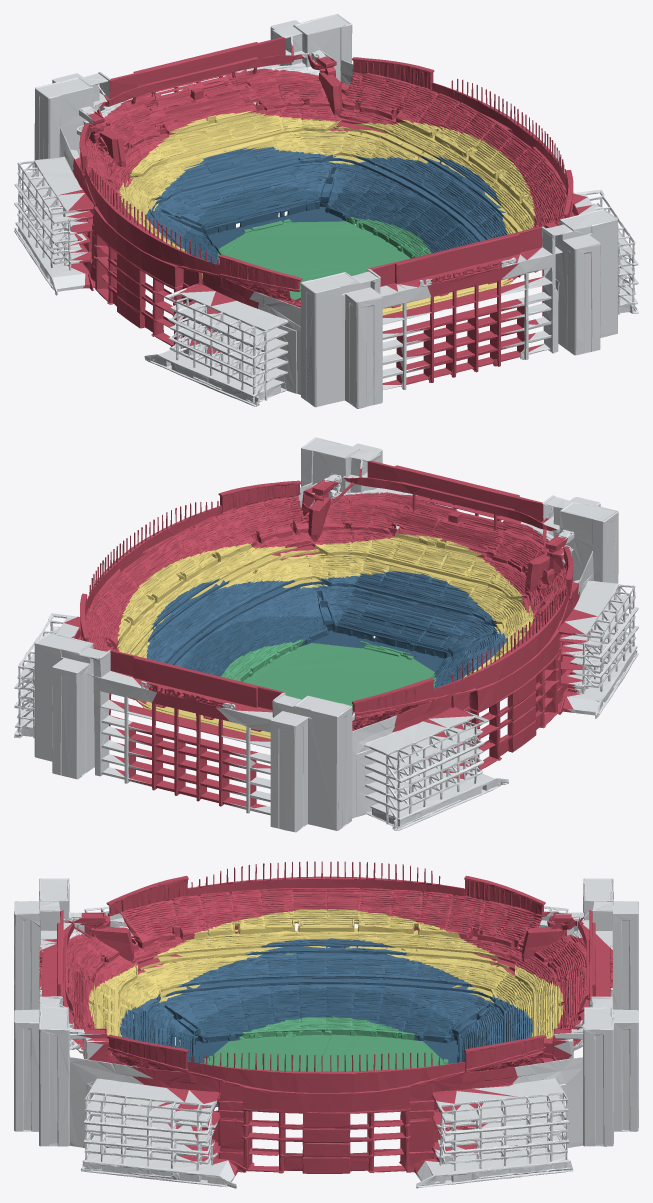
Rendered from nrg-stadium.glb.
3 renders of one model, top to bottom at view 1: azimuth 30°, elevation 25°; view 2: azimuth 150°, elevation 25°; view 3: azimuth 270°, elevation 25°, orthographic. The views are drawn at different scales.
Visible parts, largest first — view 1: Node_Bowl_500_UpperRed, Node_Gate_Exterior, Node_Suites_300_Balcony, Node_Bowl_200_Club, Node_Bowl_100_Lower, Node_Field_GrassTurf; view 2: Node_Bowl_500_UpperRed, Node_Gate_Exterior, Node_Suites_300_Balcony, Node_Bowl_200_Club, Node_Bowl_100_Lower, Node_Field_GrassTurf; view 3: Node_Bowl_500_UpperRed, Node_Gate_Exterior, Node_Suites_300_Balcony, Node_Bowl_200_Club, Node_Bowl_100_Lower, Node_Field_GrassTurf.
Boxes of the visible parts, x1,y1,x2,y2 form: Node_Bowl_500_UpperRed: [58, 37, 592, 386]; Node_Gate_Exterior: [14, 14, 638, 408]; Node_Suites_300_Balcony: [117, 110, 535, 315]; Node_Bowl_200_Club: [146, 146, 507, 317]; Node_Bowl_100_Lower: [182, 185, 469, 264]; Node_Field_GrassTurf: [217, 216, 431, 300]; Node_Bowl_500_UpperRed: [64, 460, 597, 808]; Node_Gate_Exterior: [14, 437, 638, 832]; Node_Suites_300_Balcony: [117, 533, 534, 738]; Node_Bowl_200_Club: [146, 570, 507, 741]; Node_Bowl_100_Lower: [184, 610, 471, 688]; Node_Field_GrassTurf: [221, 639, 436, 712]; Node_Bowl_500_UpperRed: [39, 861, 612, 1175]; Node_Gate_Exterior: [14, 878, 638, 1188]; Node_Suites_300_Balcony: [88, 909, 563, 1038]; Node_Bowl_200_Club: [120, 938, 532, 1106]; Node_Bowl_100_Lower: [161, 981, 490, 1063]; Node_Field_GrassTurf: [204, 1016, 448, 1071].
Size of the model in its own units: 1.63 by 0.4123 by 1.9.
